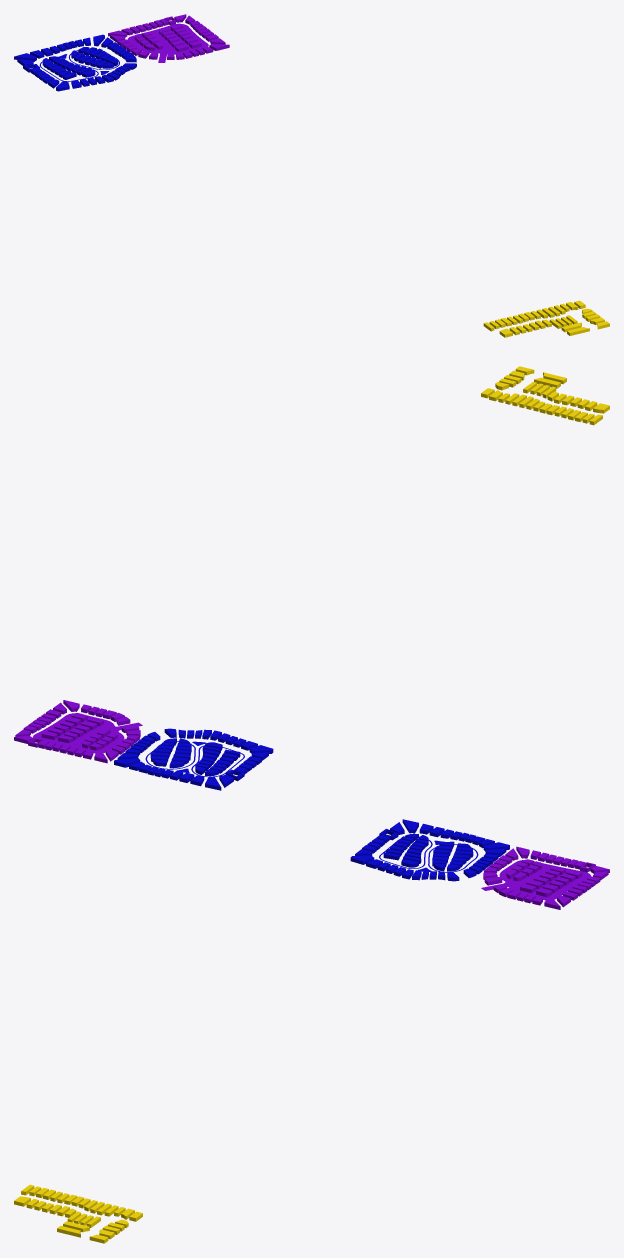
3 views of the same model, one above another, from view 1: azimuth 30°, elevation 25°; view 2: azimuth 150°, elevation 25°; view 3: azimuth 330°, elevation 25° (orthographic). The views are drawn at different scales.
Parts seen in each view (by area): view 1: E-16, E-15, E-1; view 2: E-16, E-15, E-1; view 3: E-16, E-15, E-1.
Boxes of the visible parts, x1,y1,x2,y2 form: E-16: (14,34,136,91); E-15: (108,14,229,62); E-1: (483,300,609,337); E-16: (114,728,273,790); E-15: (14,700,142,763); E-1: (481,366,609,425); E-16: (350,819,509,881); E-15: (481,846,609,909); E-1: (14,1184,142,1243).
Size of the model in its own units: 497 by 8.2 by 2066.
